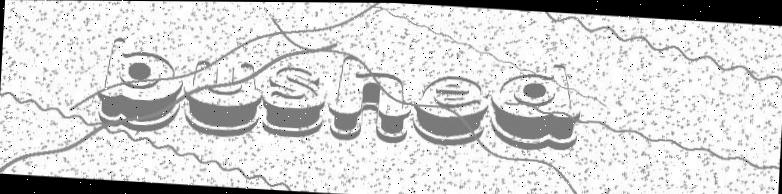b: (94, 35, 185, 135)
d: (489, 59, 583, 154)
e: (411, 71, 490, 148)
h: (327, 55, 413, 144)
s: (261, 65, 326, 138)
u: (182, 58, 264, 140)
